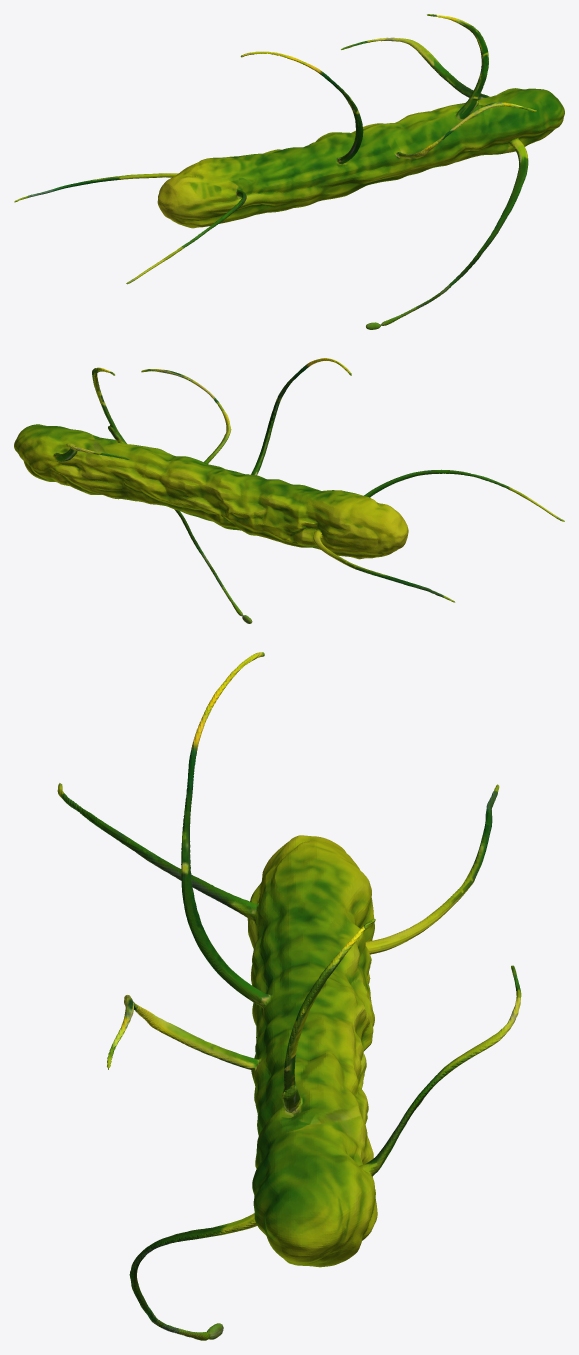
File: SalmonellaEnterica.glb
The picture shows the model from 3 angles, top to bottom: view 1: azimuth 30°, elevation 25°; view 2: azimuth 150°, elevation 25°; view 3: azimuth 270°, elevation 25°; orthographic projection. The views are drawn at different scales.
Visible parts, largest first — view 1: tripo_node_b271e378-943e-4058-8523-9eacffbc6c7e; view 2: tripo_node_b271e378-943e-4058-8523-9eacffbc6c7e; view 3: tripo_node_b271e378-943e-4058-8523-9eacffbc6c7e.
Boxes of the visible parts, x1,y1,x2,y2 form: tripo_node_b271e378-943e-4058-8523-9eacffbc6c7e: [14, 14, 564, 329]; tripo_node_b271e378-943e-4058-8523-9eacffbc6c7e: [14, 358, 564, 623]; tripo_node_b271e378-943e-4058-8523-9eacffbc6c7e: [57, 652, 521, 1340].
Size of the model in its own units: 1 by 0.5694 by 0.4134.
1 material, 1 textured.
